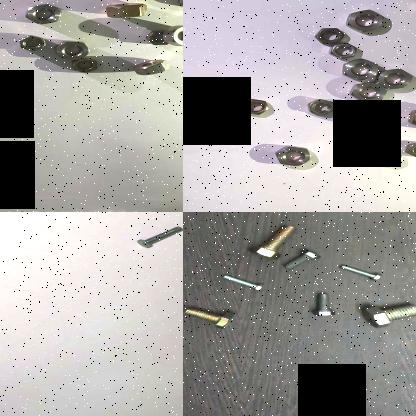Bolts: (238, 219, 302, 260), (360, 300, 416, 329), (183, 302, 244, 328), (137, 222, 183, 250), (334, 262, 386, 282), (220, 273, 269, 294), (281, 246, 322, 270), (309, 289, 337, 317)
NUTS: (343, 7, 387, 32), (338, 56, 380, 82), (374, 66, 415, 92), (274, 142, 314, 168), (18, 2, 64, 24), (48, 38, 94, 60), (126, 57, 174, 77), (100, 1, 148, 21), (350, 80, 390, 102), (352, 98, 380, 126), (145, 25, 175, 48), (238, 96, 272, 116), (16, 32, 48, 52), (312, 25, 344, 45), (356, 138, 391, 156), (306, 97, 337, 117), (69, 53, 99, 73), (326, 40, 358, 58), (161, 21, 183, 47), (375, 150, 406, 167), (404, 104, 416, 131), (405, 139, 416, 159)
